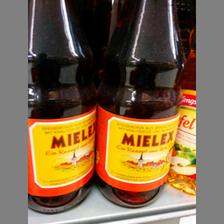Essig: (98, 0, 184, 204), (29, 0, 96, 214)
